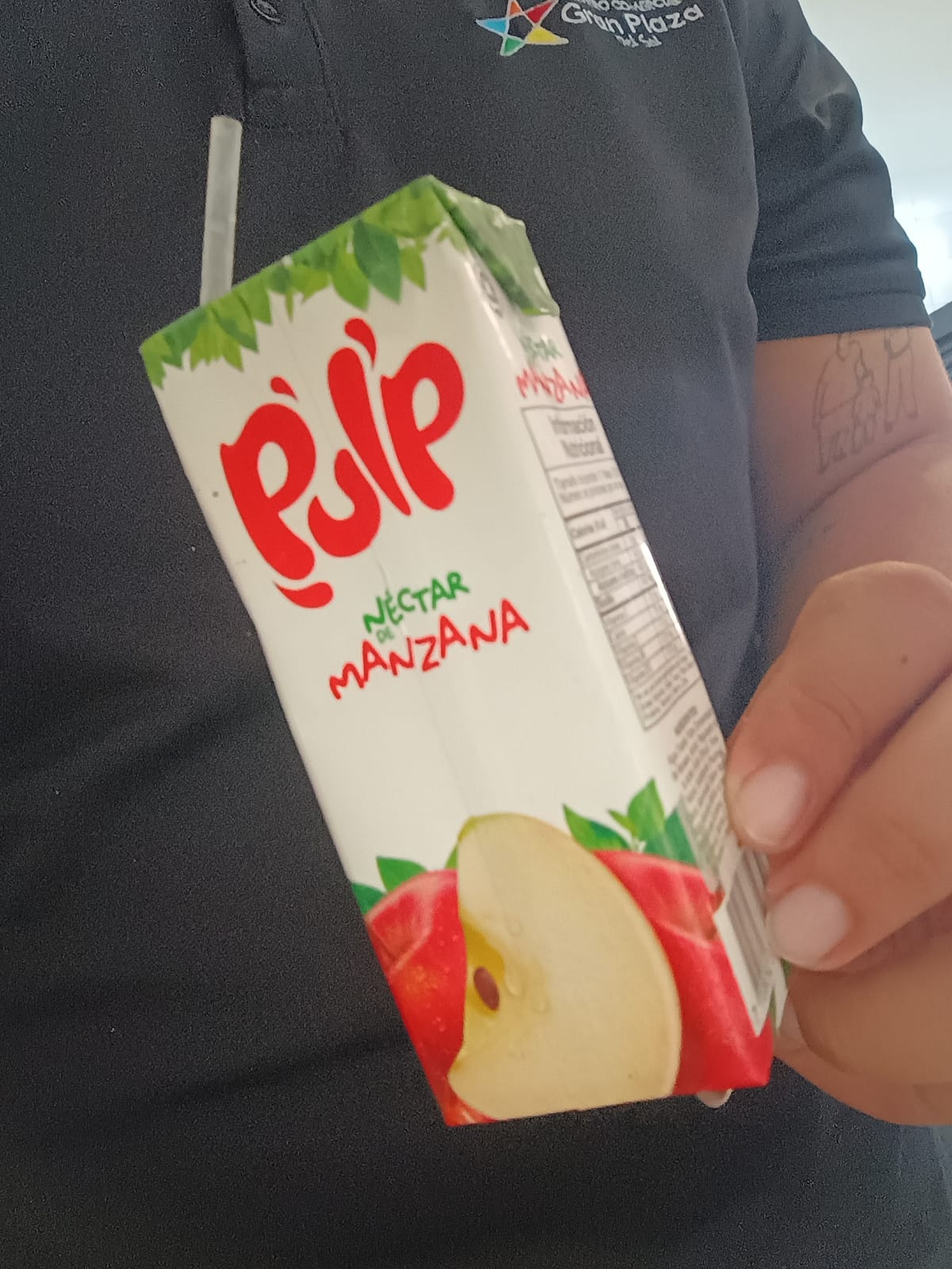Carton: (140, 173, 809, 1129)
